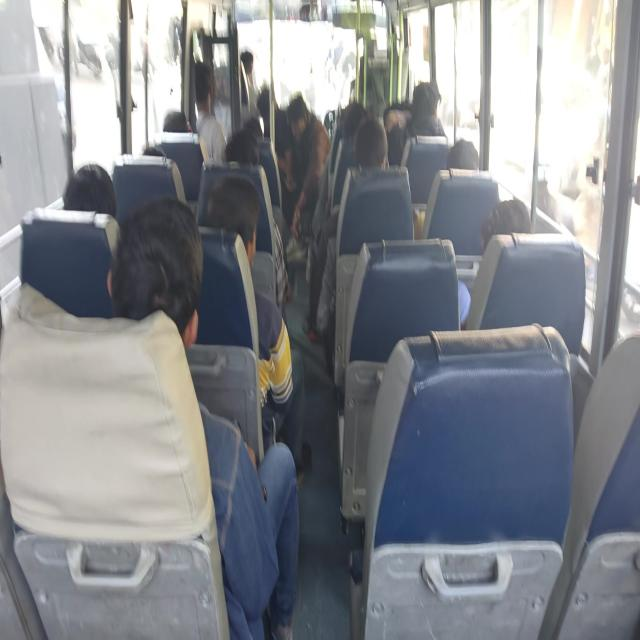person: (108, 195, 300, 638), (203, 175, 311, 474), (302, 117, 389, 342), (224, 128, 291, 312), (458, 197, 532, 328), (286, 95, 330, 242), (256, 85, 295, 191), (193, 60, 227, 166), (62, 162, 116, 218), (480, 198, 532, 254), (409, 81, 444, 137), (354, 118, 388, 170), (446, 138, 479, 170), (383, 102, 412, 134), (162, 110, 191, 132)
